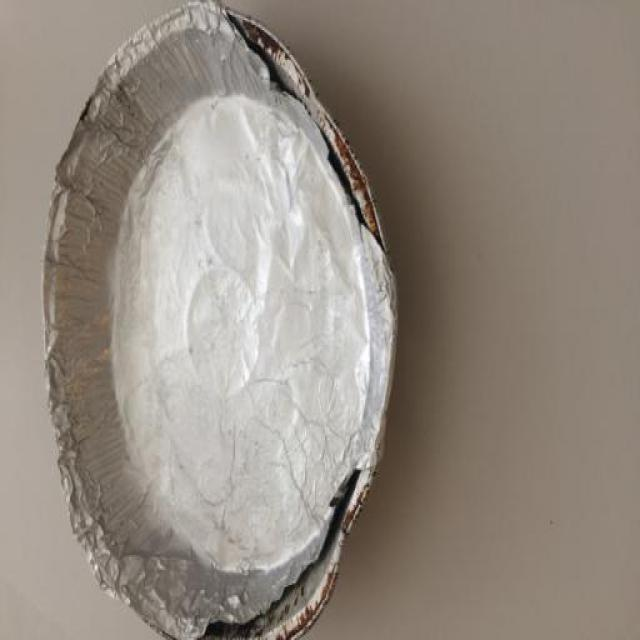metel: (35, 1, 413, 640)
